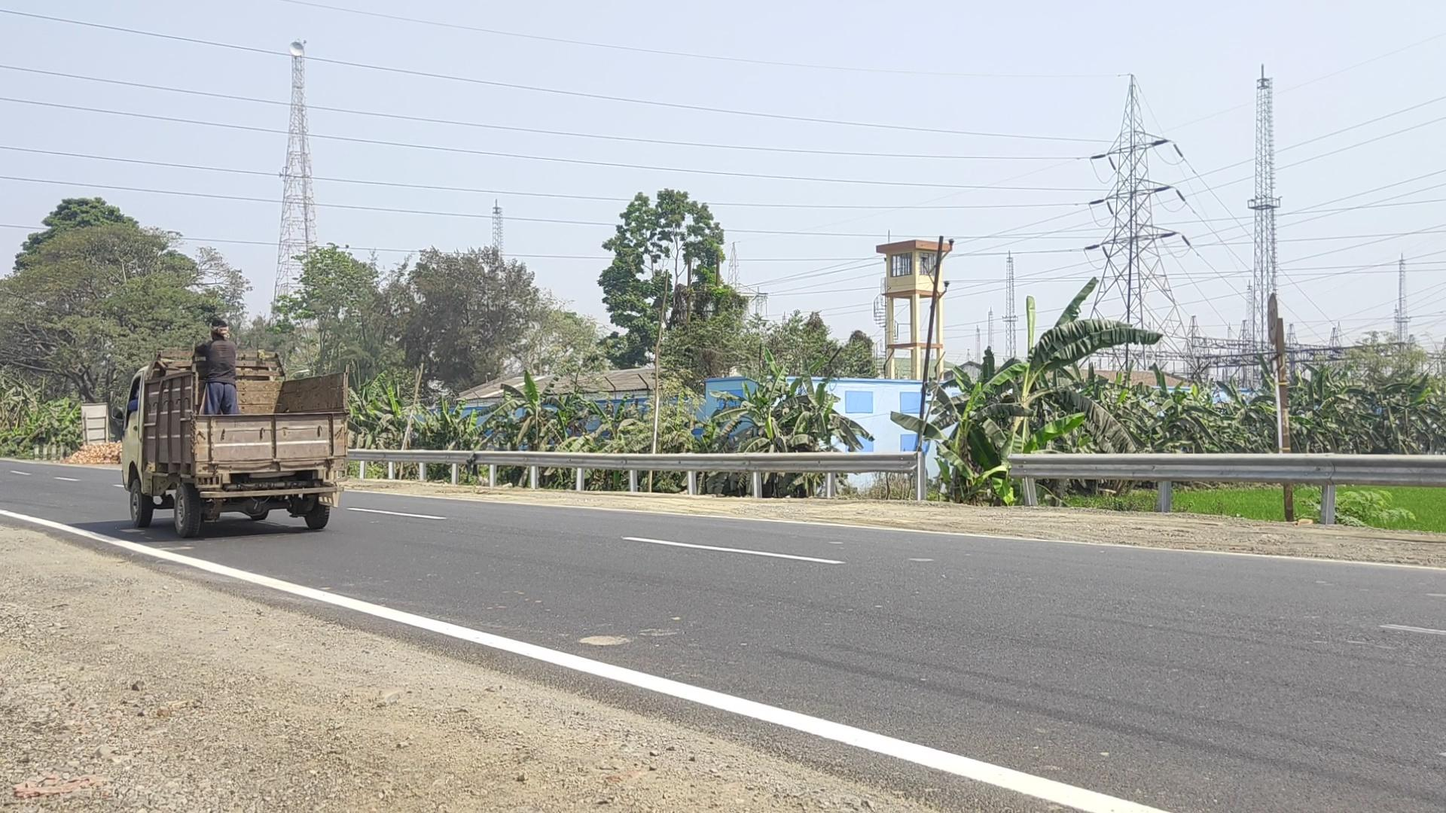van: (120, 319, 349, 538)
